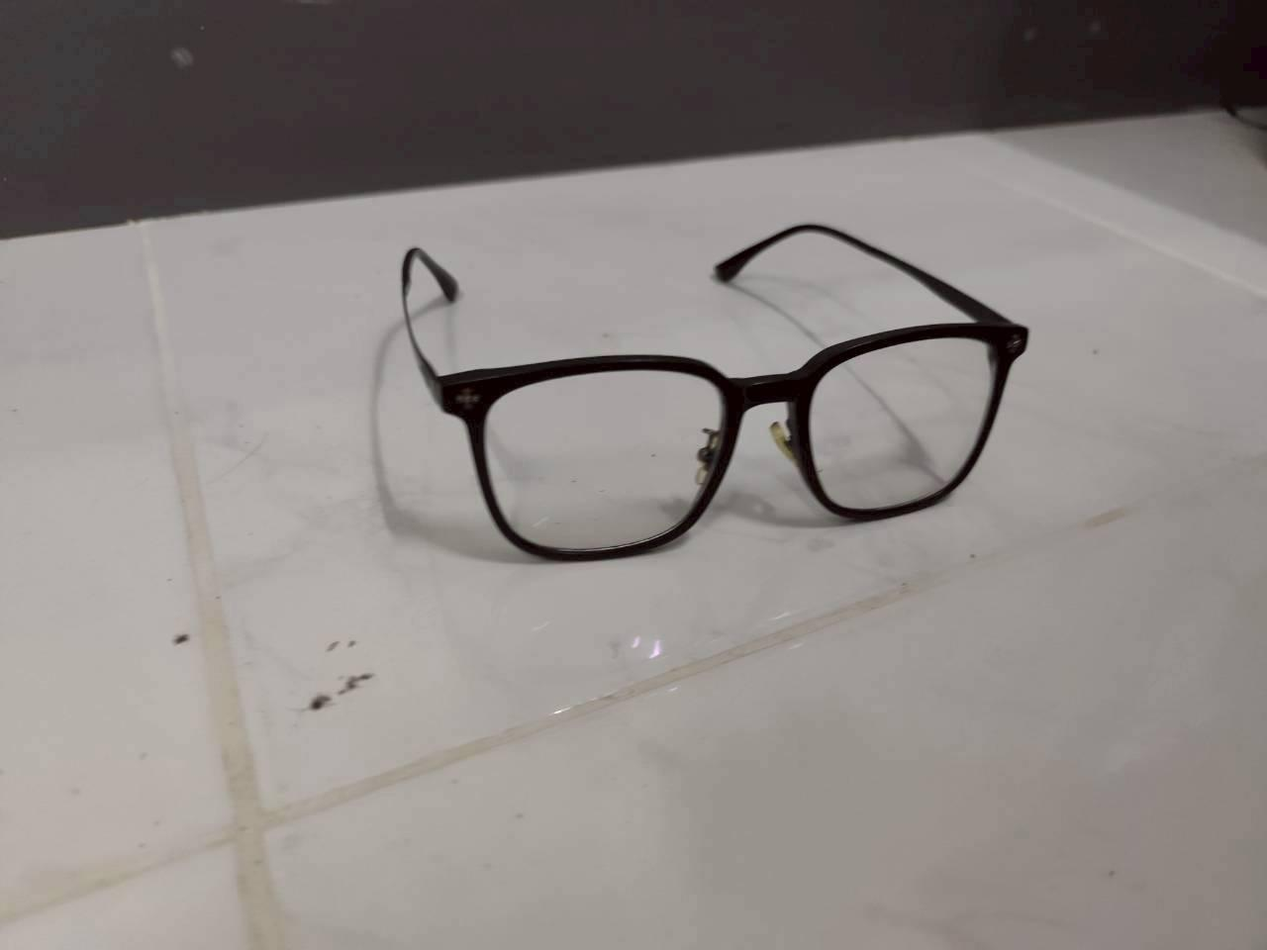glasses: (376, 214, 1053, 569)
